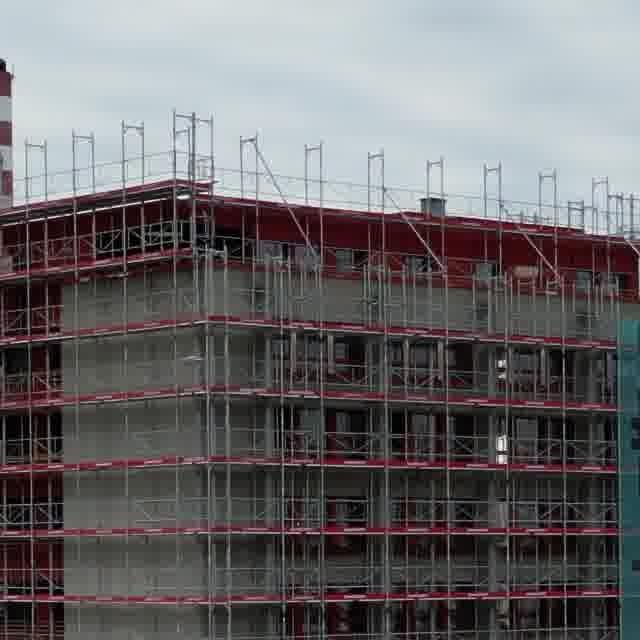Drohne: (182, 354, 203, 362)
